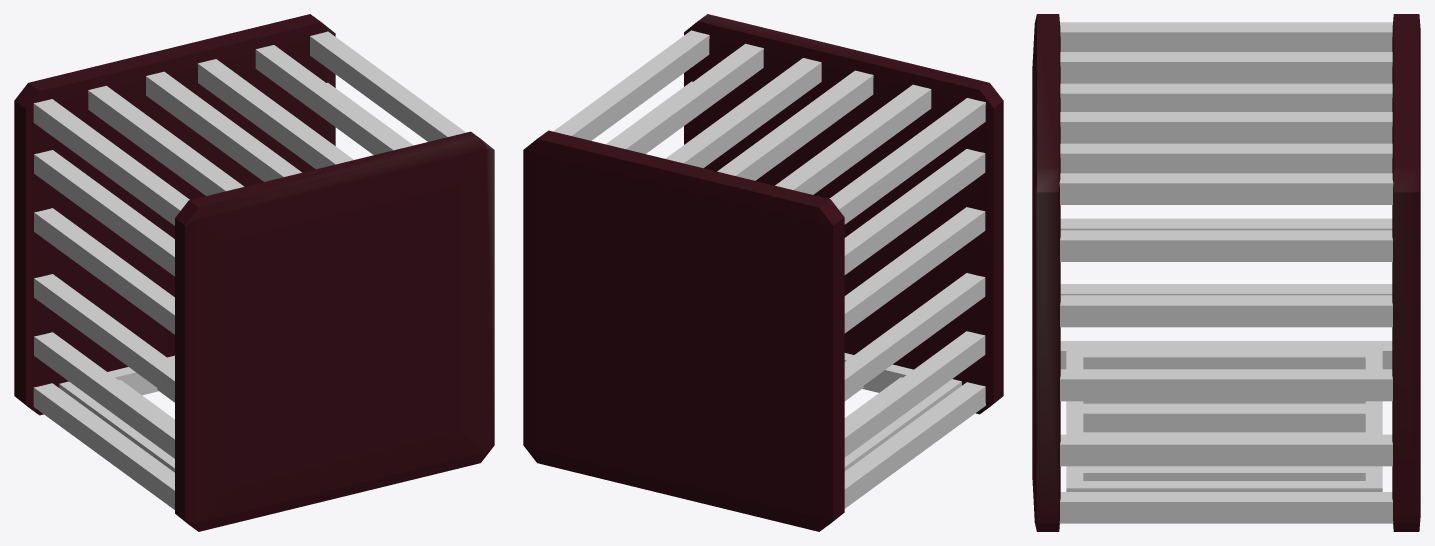
The model's file is CageXL.fbx.
3 renders of one model, left to right at view 1: azimuth 30°, elevation 25°; view 2: azimuth 150°, elevation 25°; view 3: azimuth 270°, elevation 25°, orthographic. The views are drawn at different scales.
Parts seen in each view (by area): view 1: Cube, Cube.007; view 2: Cube, Cube.007; view 3: Cube, Cube.007.
Part boxes in pixels (box(x1,y1,x2,y2)): Cube: box(14, 14, 494, 531); Cube.007: box(59, 355, 174, 472); Cube: box(523, 14, 1003, 531); Cube.007: box(844, 353, 961, 471); Cube: box(1032, 14, 1420, 531); Cube.007: box(1066, 350, 1382, 491).
Bounding box in the file's own units: 1.97 × 1.97 × 1.91.
